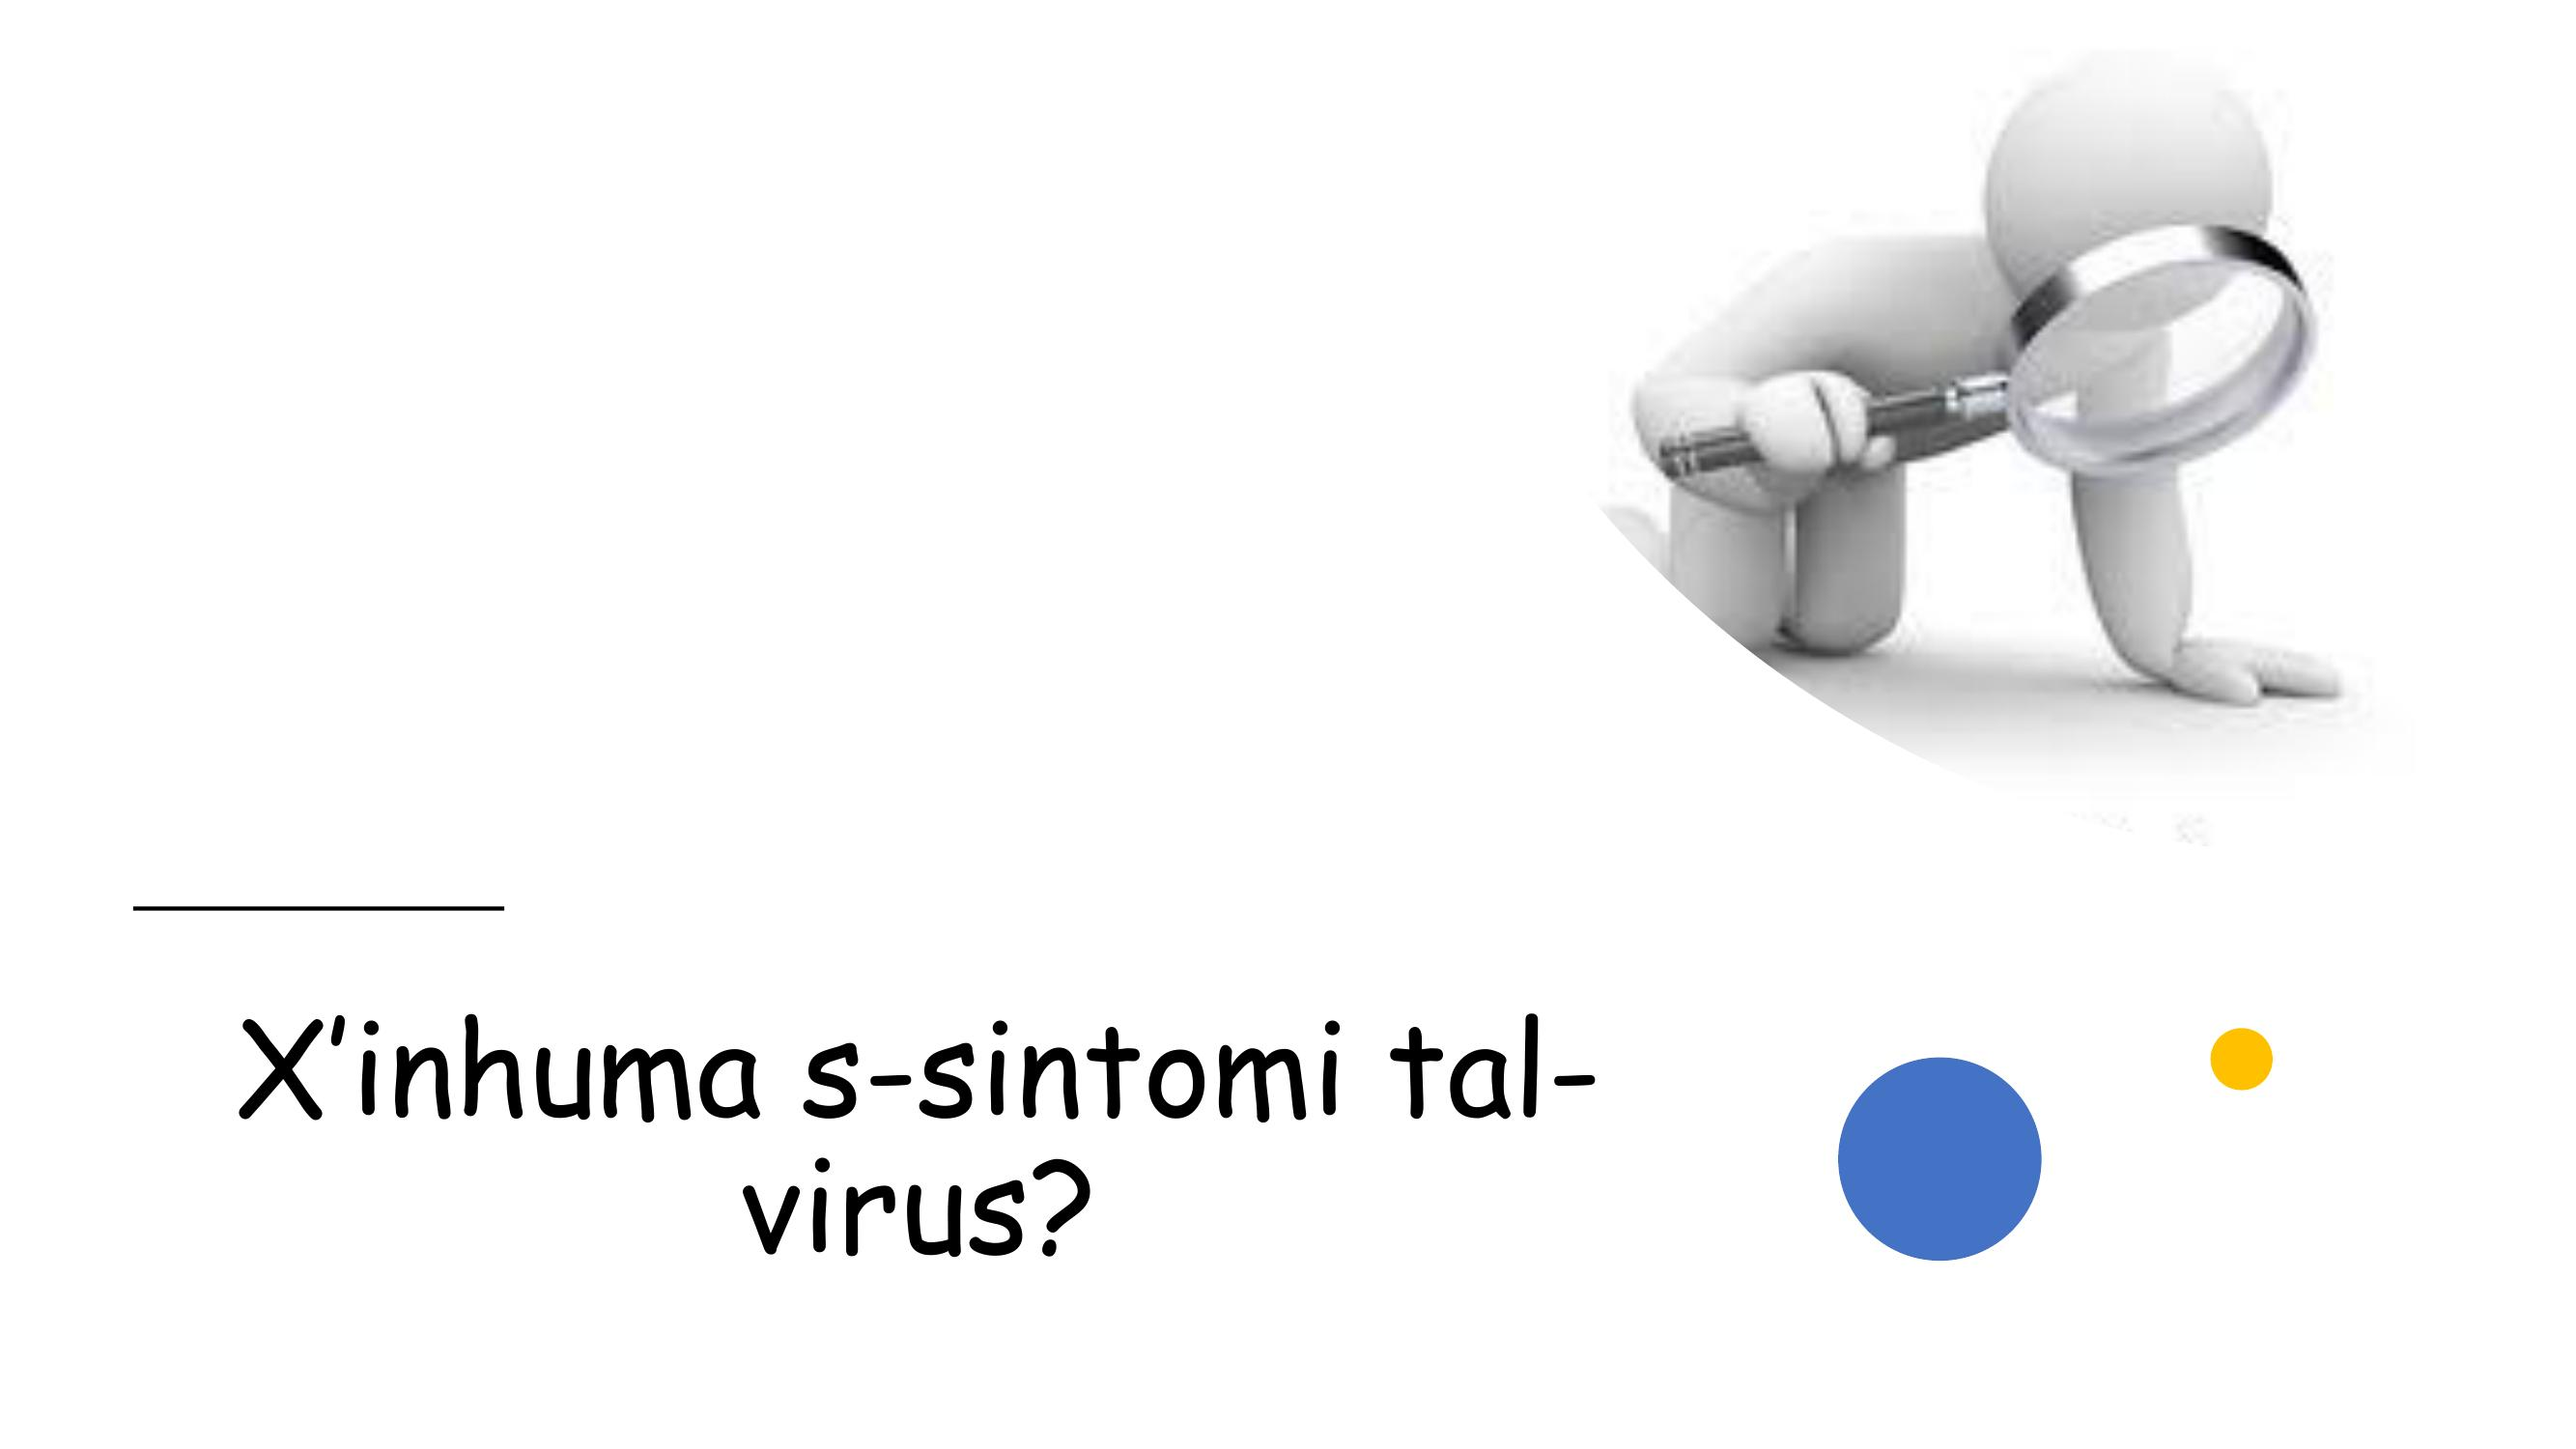text: (193, 970, 1635, 1302)
